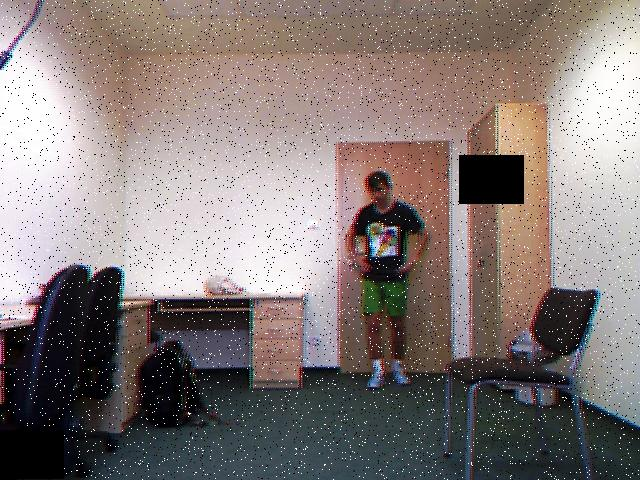standing: (346, 154, 435, 396)
